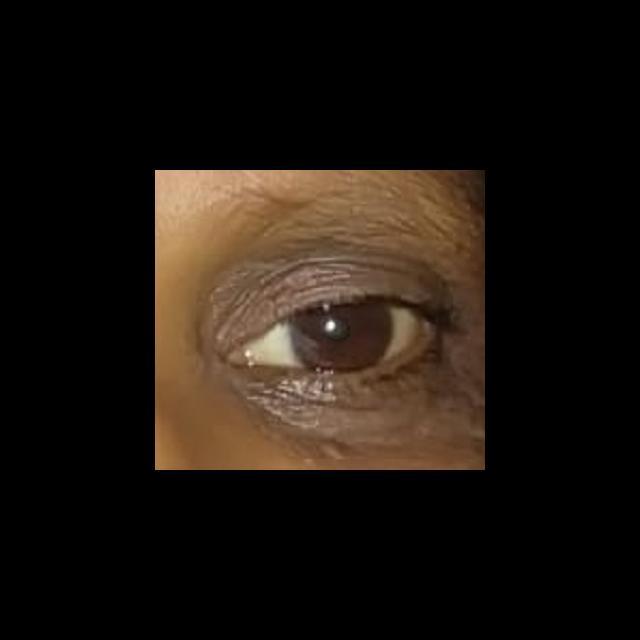eye: (247, 302, 418, 373)
iris: (288, 303, 394, 371)
